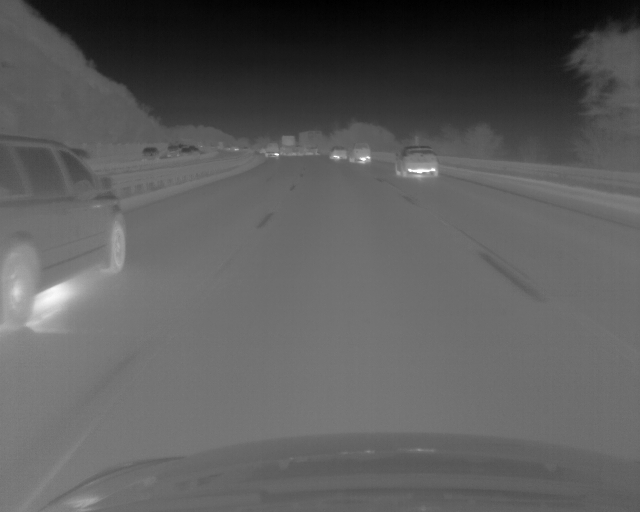car: (1, 133, 127, 331), (394, 146, 439, 179), (280, 135, 319, 155), (349, 143, 373, 164), (141, 146, 159, 162), (329, 146, 347, 160), (265, 143, 278, 157)
